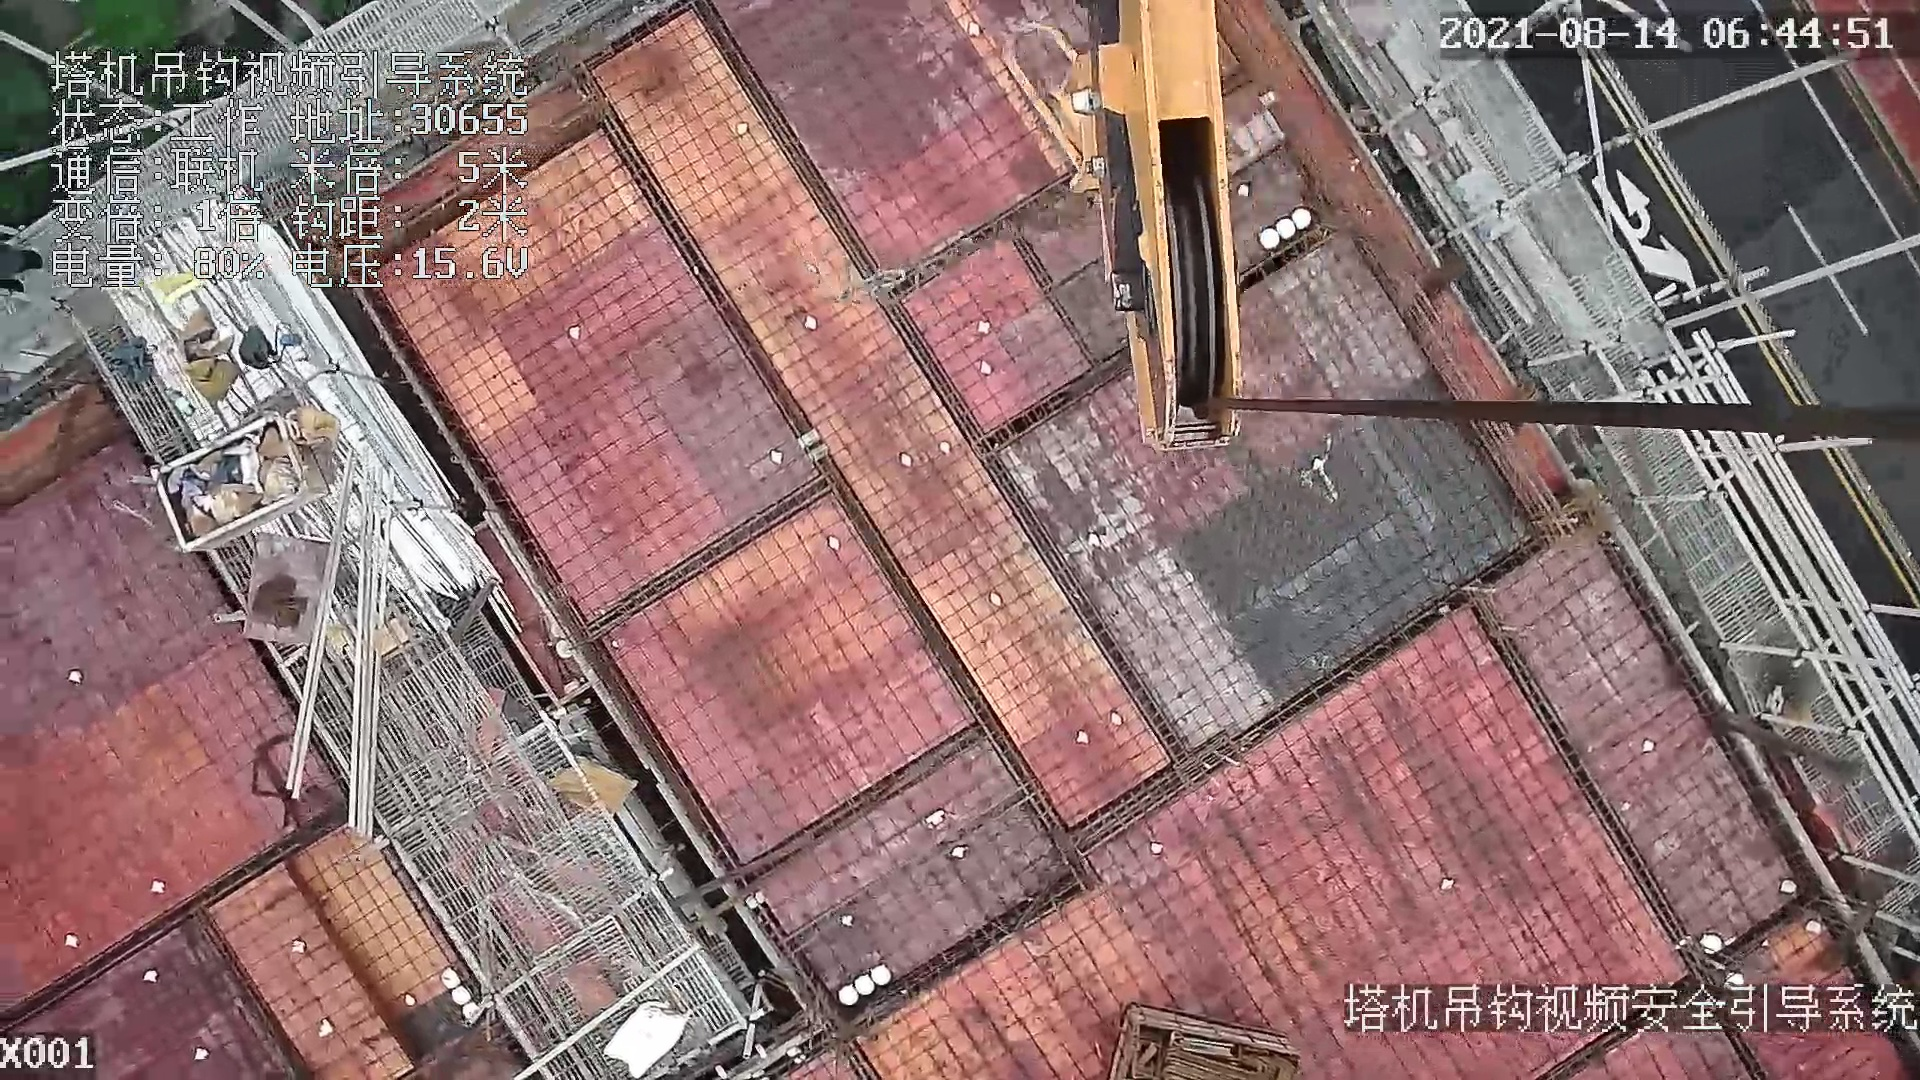hook: (997, 4, 1247, 454)
